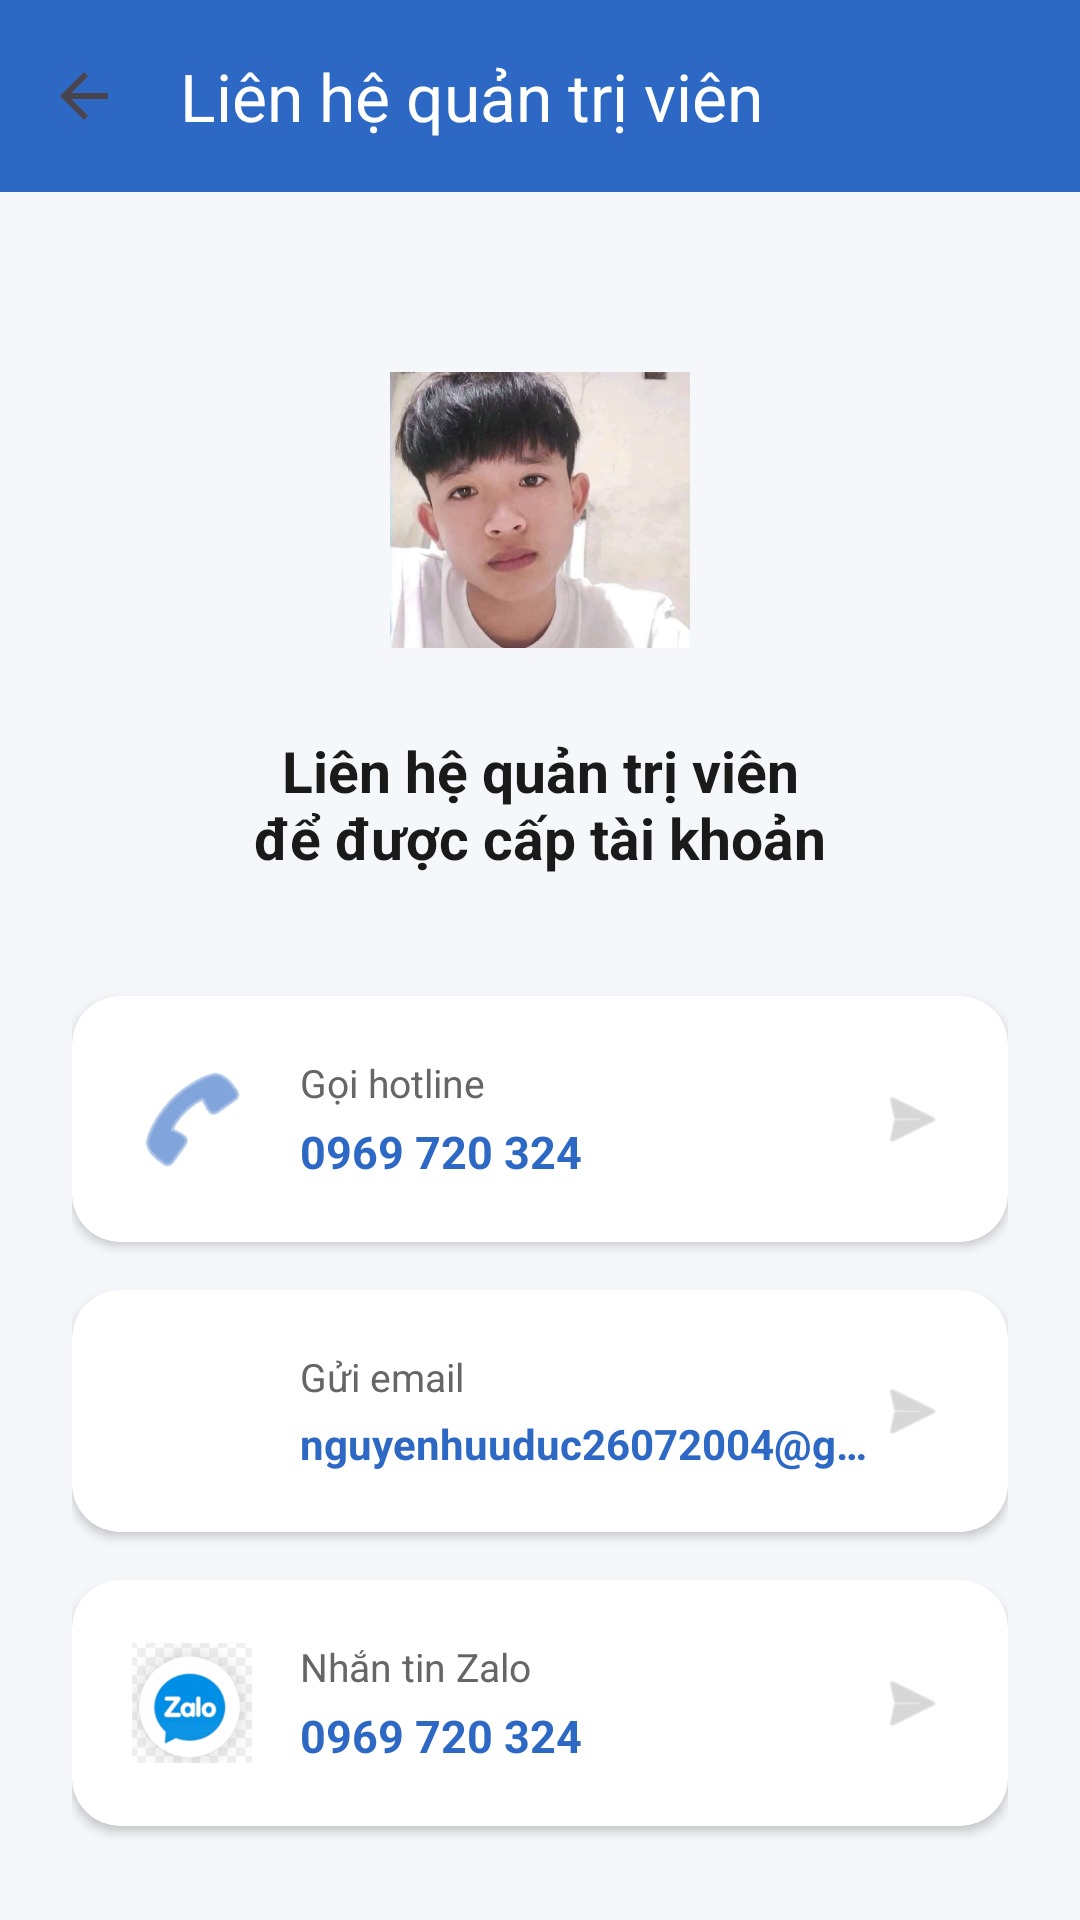

Named icons in this screenshot (1080px×1920px) and their bounding boxes, (x1, y1, x2, y2):
call: (146, 1073, 240, 1167)
send: (891, 1098, 935, 1141), (891, 1390, 935, 1433), (891, 1682, 935, 1725)
